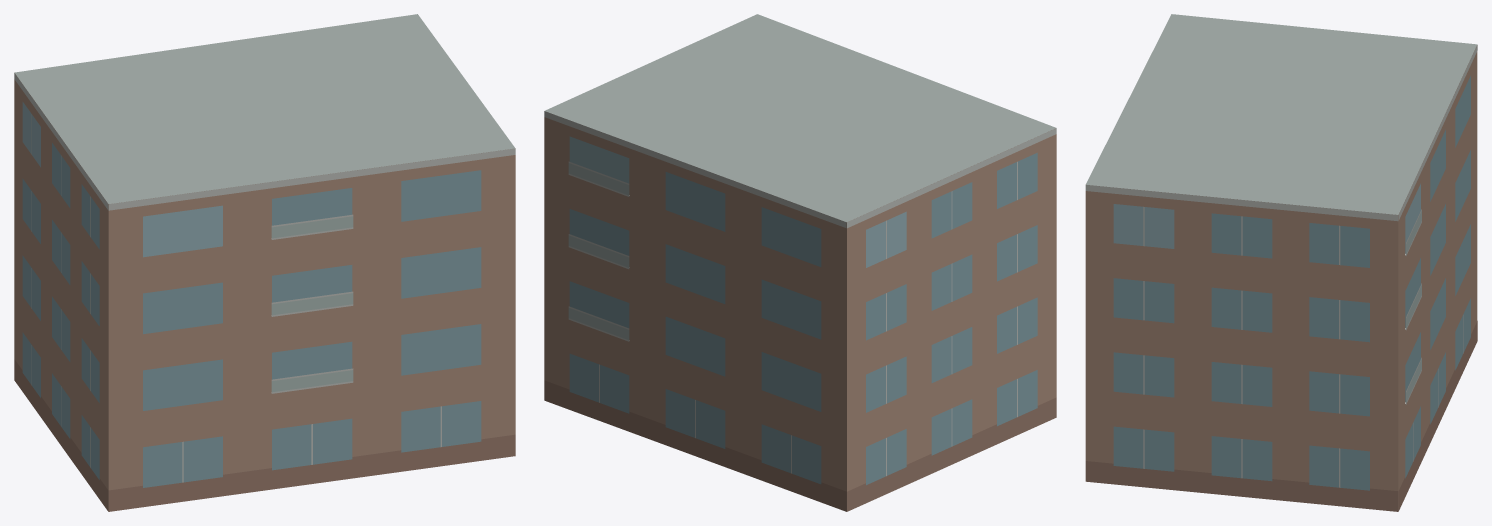
File: survey-upis-32843287.glb
3 views of the same model, side by side, from view 1: azimuth 30°, elevation 25°; view 2: azimuth 150°, elevation 25°; view 3: azimuth 270°, elevation 25° (orthographic). The views are drawn at different scales.
Visible parts, largest first — view 1: survey-upis-32843287.tmp; view 2: survey-upis-32843287.tmp; view 3: survey-upis-32843287.tmp.
Part boxes in pixels (x1=…): survey-upis-32843287.tmp: x1=14, y1=14, x2=515, y2=511; survey-upis-32843287.tmp: x1=544, y1=14, x2=1056, y2=511; survey-upis-32843287.tmp: x1=1085, y1=14, x2=1477, y2=511.
Size of the model in its own units: 16.85 by 11.6 by 13.89.
